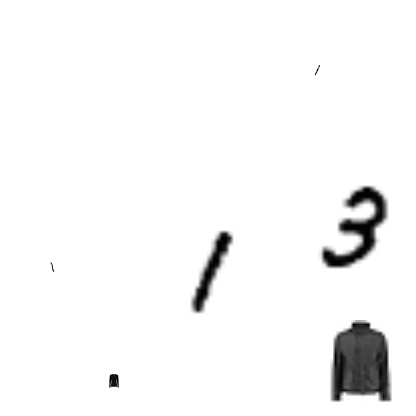1: (152, 212, 264, 324), (45, 260, 59, 274), (310, 63, 324, 77)
3: (303, 171, 415, 283)
Coat: (319, 320, 403, 404)
Pullover: (107, 374, 121, 388)
